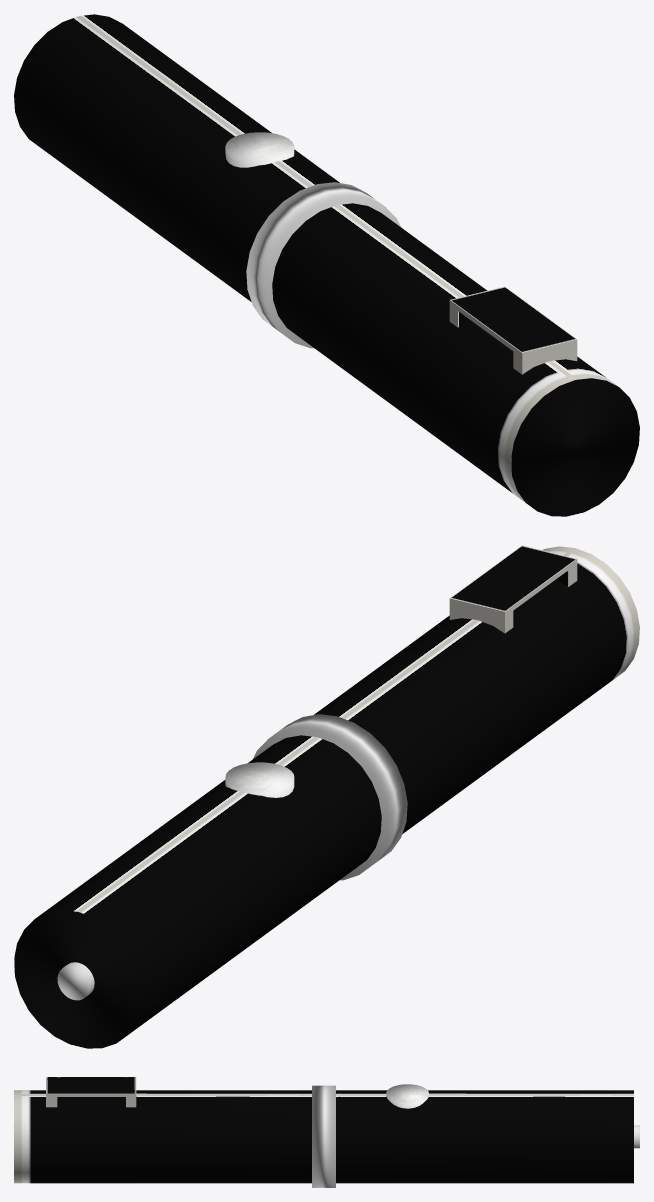
File: laser.fbx
3 renders of one model, top to bottom at view 1: azimuth 30°, elevation 25°; view 2: azimuth 150°, elevation 25°; view 3: azimuth 270°, elevation 25°, orthographic. The views are drawn at different scales.
Parts seen in each view (by area): view 1: Cylinder, Cylinder.003, Plane, Cylinder.002; view 2: Cylinder, Cylinder.003, Plane, Cylinder.002, Cylinder.001; view 3: Cylinder, Cylinder.003, Plane, Cylinder.002.
Part boxes in pixels (left/top/right/bottom): Cylinder: left=14, top=14, right=639, bottom=516; Cylinder.003: left=246, top=182, right=400, bottom=348; Plane: left=449, top=286, right=577, bottom=374; Cylinder.002: left=225, top=132, right=294, bottom=167; Cylinder: left=14, top=546, right=639, bottom=1048; Cylinder.003: left=253, top=714, right=407, bottom=880; Plane: left=449, top=545, right=577, bottom=633; Cylinder.002: left=225, top=762, right=294, bottom=797; Cylinder.001: left=57, top=962, right=94, bottom=1000; Cylinder: left=14, top=1090, right=633, bottom=1183; Cylinder.003: left=312, top=1085, right=335, bottom=1187; Plane: left=46, top=1077, right=136, bottom=1107; Cylinder.002: left=386, top=1084, right=428, bottom=1108.
Size of the model in its own units: 220 by 231 by 1345.
4 materials, 3 textured.
